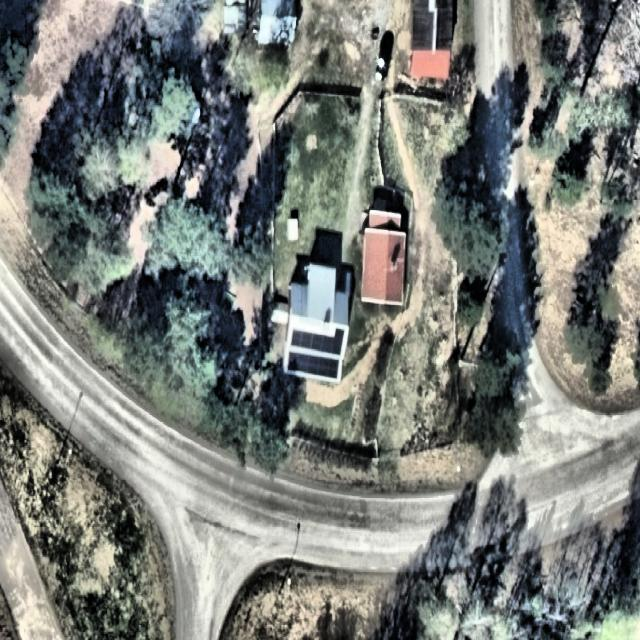roof_pv: (287, 349, 341, 384), (292, 327, 348, 357)
